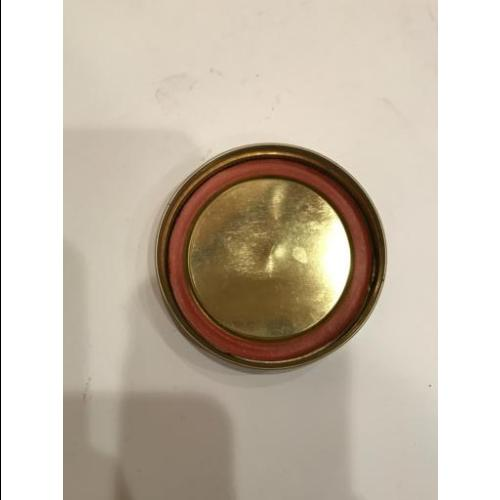metal: (157, 141, 387, 368)
